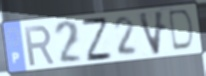2: (53, 19, 85, 66), (113, 15, 140, 57)
D: (168, 8, 196, 53)
R: (23, 24, 56, 68)
V: (136, 9, 167, 58)
Z: (79, 17, 115, 64)
